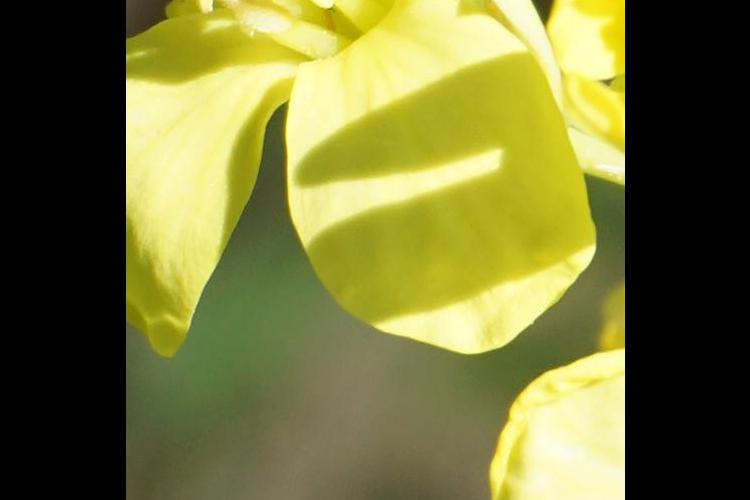yellow: (135, 1, 596, 363), (484, 345, 616, 500)
